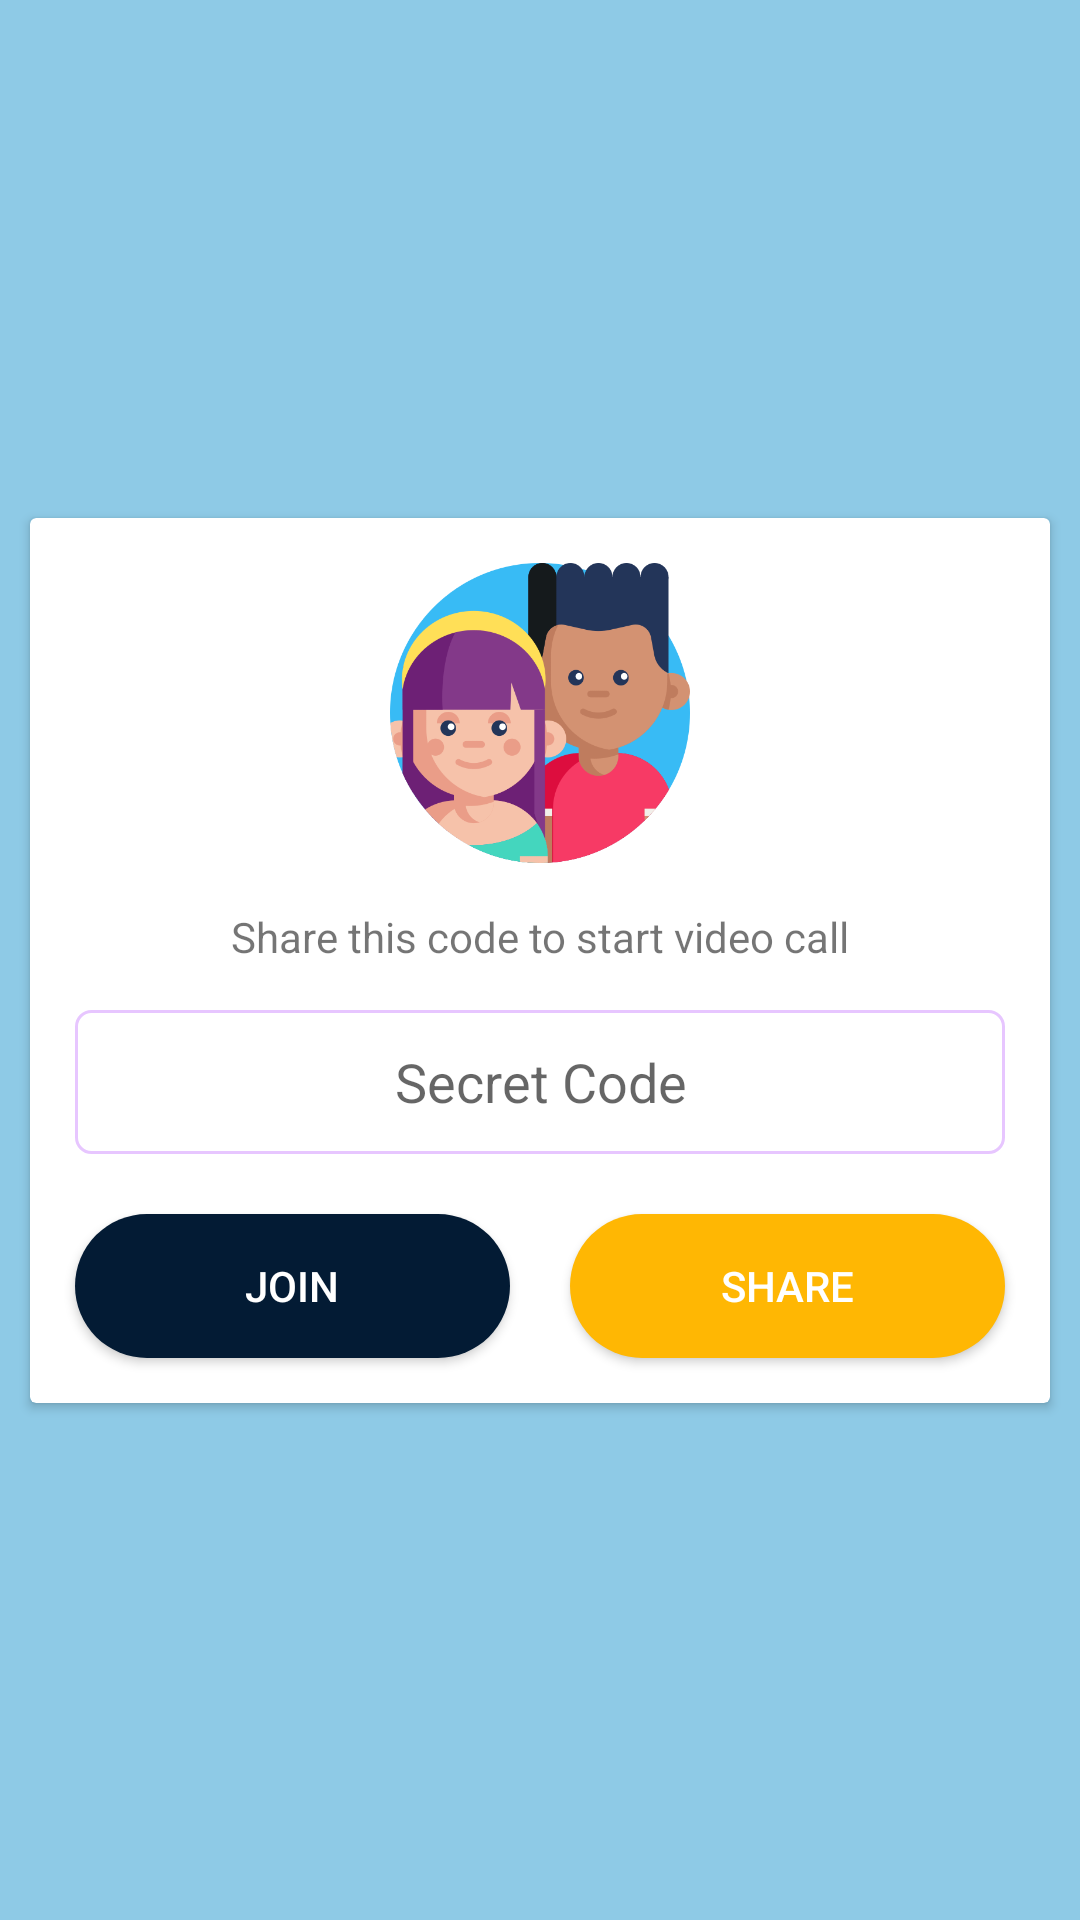

Where to tap for icons on this 1080×1920 app screen, as point (x, y):
friends: point (540, 713)
